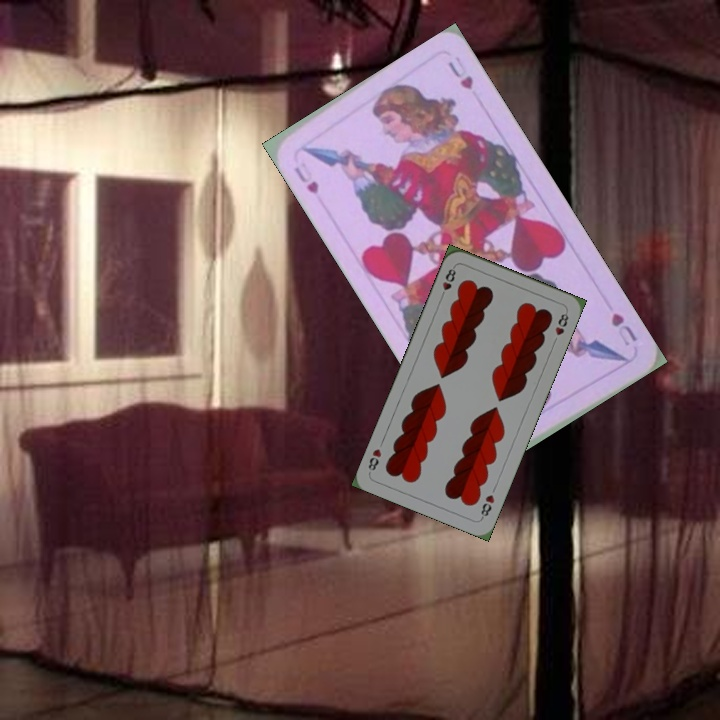H8: (437, 262, 459, 301), (477, 490, 497, 521)
HU: (607, 308, 640, 349), (290, 158, 322, 197)
